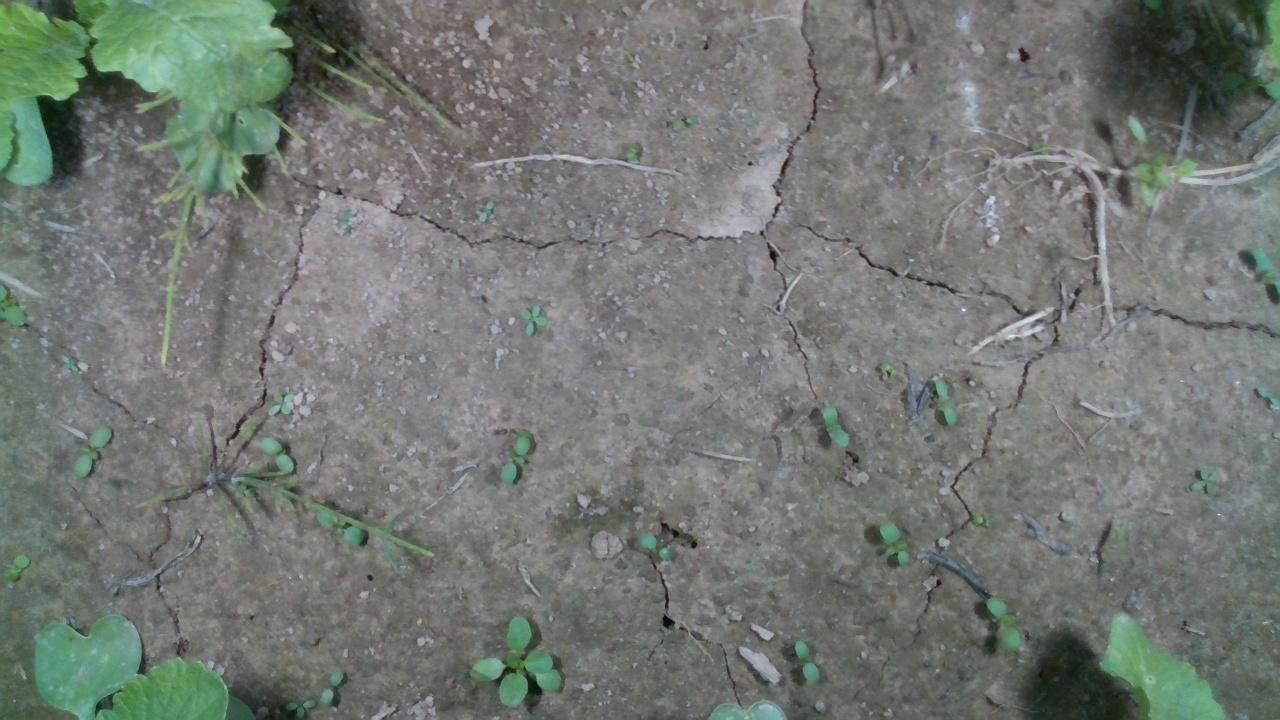weed: (70, 424, 113, 478), (984, 594, 1020, 650), (497, 434, 531, 485), (877, 519, 911, 566), (818, 402, 850, 448), (932, 376, 959, 427), (792, 638, 819, 685), (636, 529, 674, 560), (1186, 465, 1220, 497), (517, 300, 547, 336), (282, 691, 315, 718), (319, 669, 343, 706), (266, 388, 295, 417), (3, 551, 29, 582), (670, 111, 700, 132), (621, 49, 640, 72), (623, 140, 640, 162)
